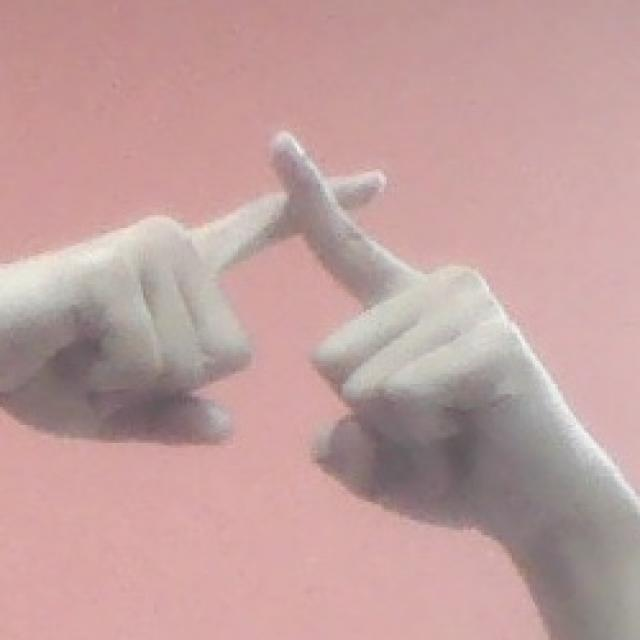Alphabet-X: (0, 115, 562, 565)
